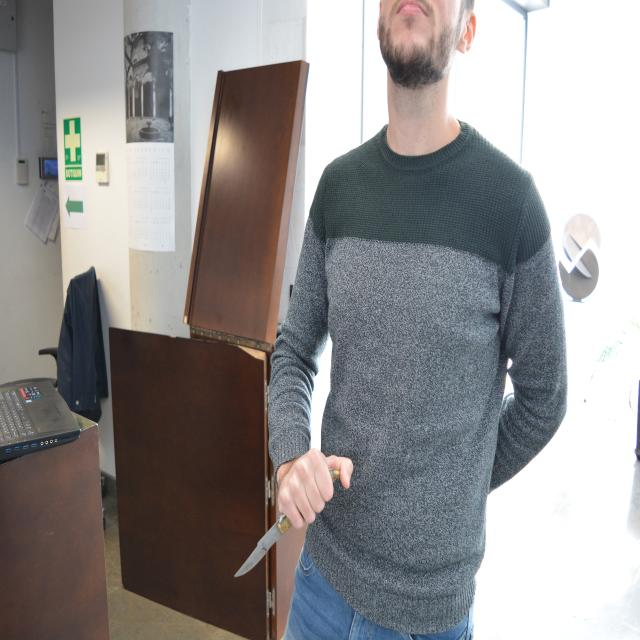knife: (230, 516, 291, 585)
